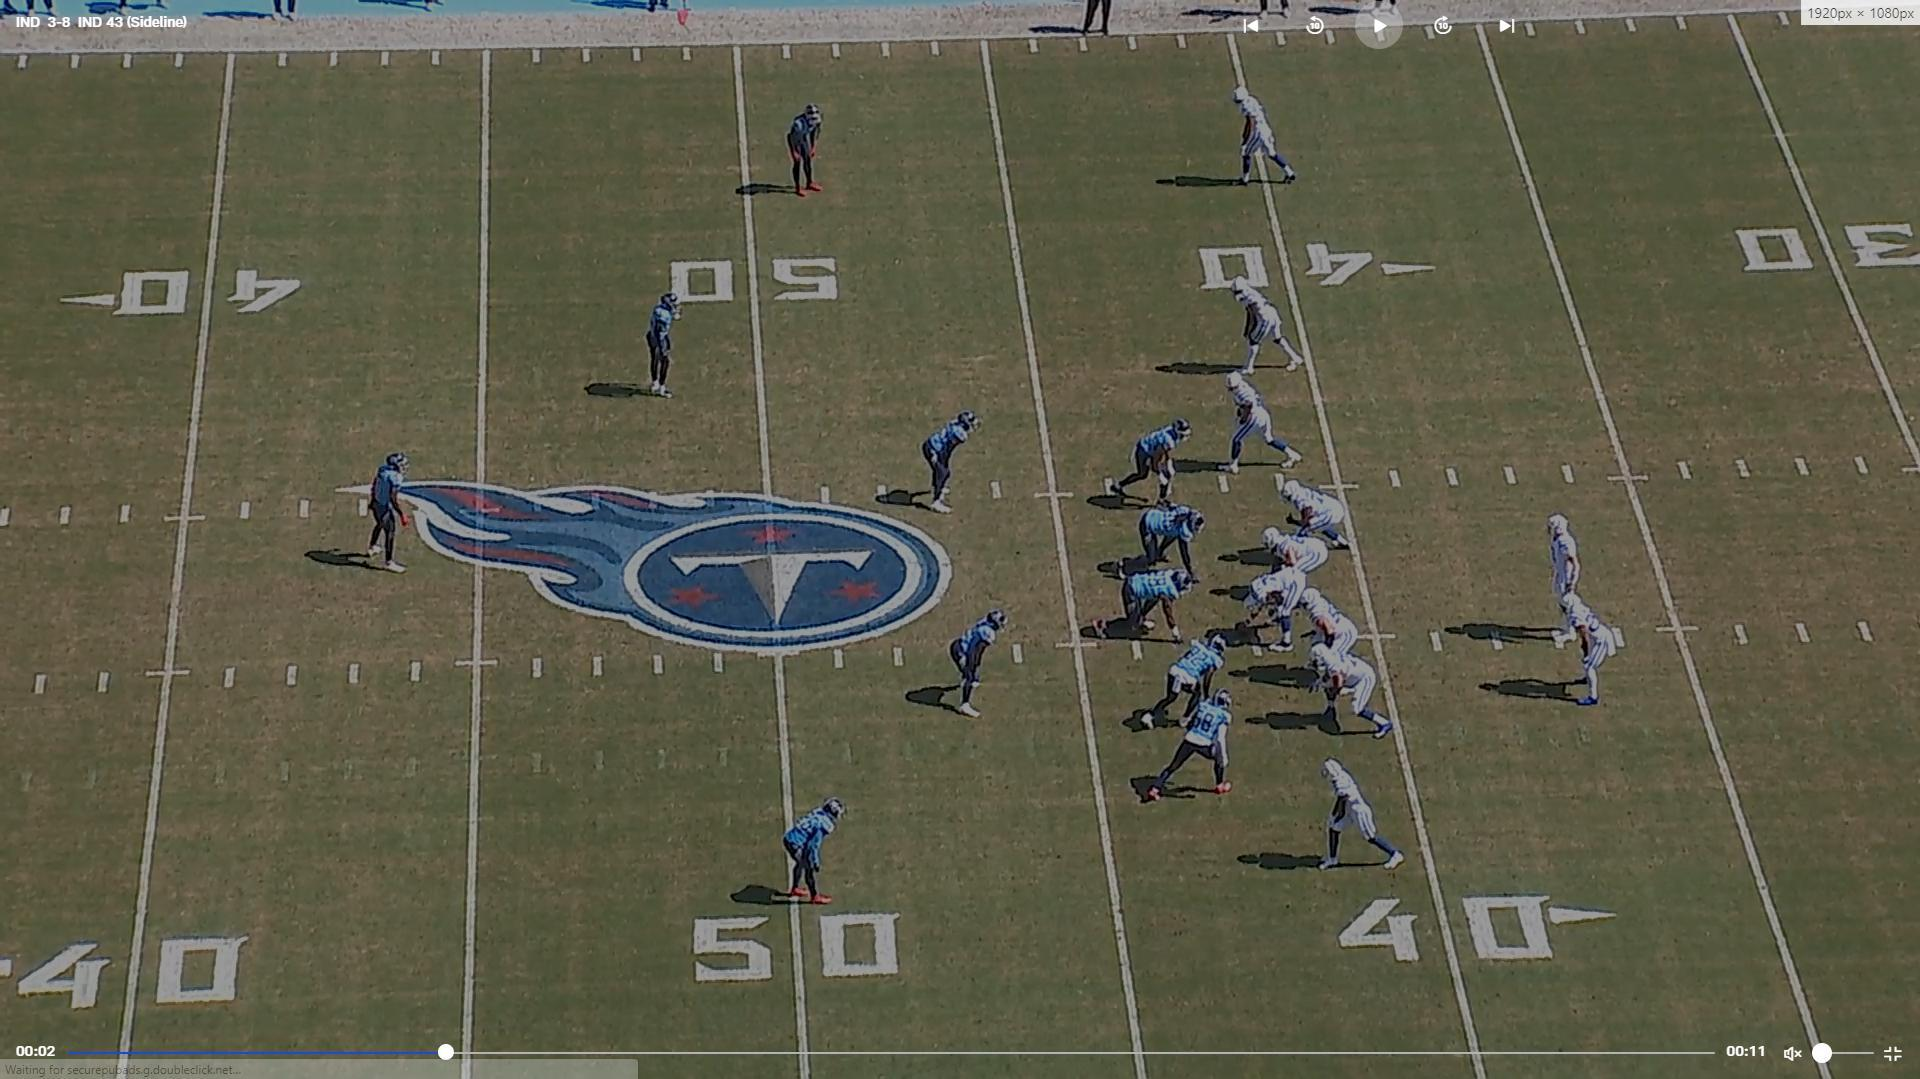player: (1146, 684, 1245, 799), (1317, 757, 1410, 875), (1129, 630, 1235, 733), (1225, 82, 1306, 191), (1302, 646, 1392, 744), (1092, 567, 1199, 648), (1222, 371, 1306, 474), (1230, 275, 1310, 378), (1106, 418, 1196, 508), (783, 794, 849, 911), (943, 603, 1007, 720), (1558, 598, 1622, 710), (919, 408, 982, 517), (1119, 502, 1210, 575), (365, 451, 417, 577), (1233, 570, 1307, 655), (1539, 511, 1584, 650), (1282, 474, 1358, 554), (640, 290, 685, 404), (787, 102, 836, 205), (1303, 589, 1365, 663), (1257, 523, 1325, 588)
ref: (1071, 0, 1128, 37)
